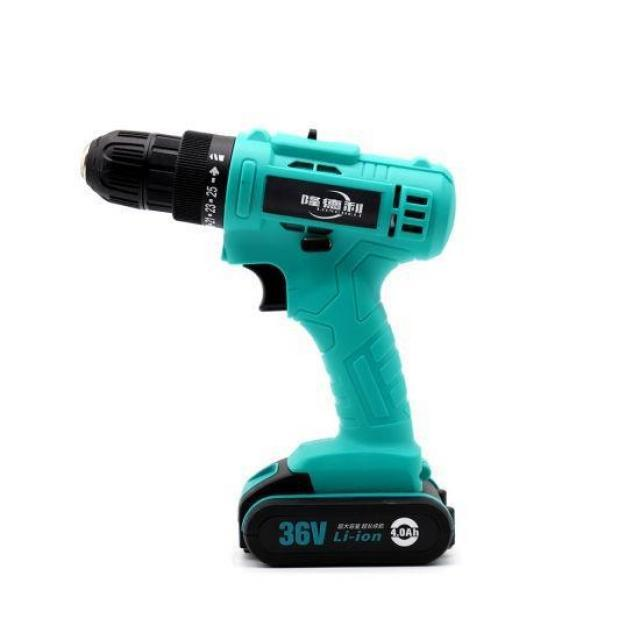drill: (80, 128, 456, 570)
